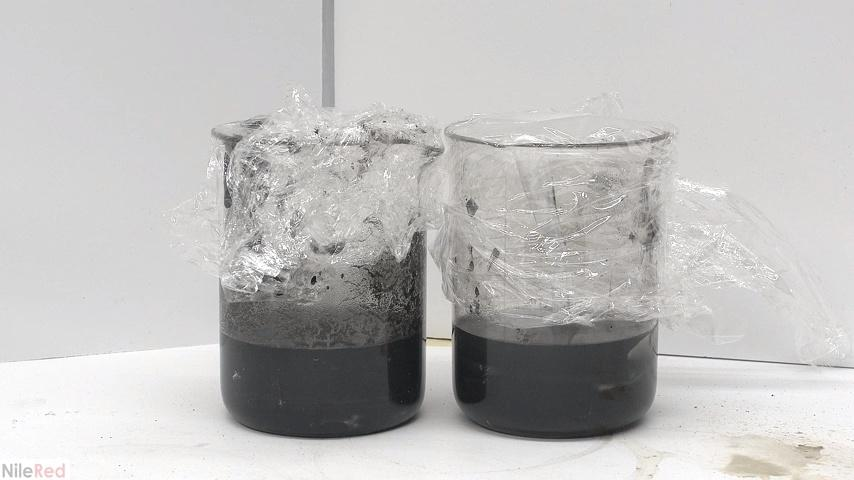Beaker: (198, 108, 434, 436), (443, 103, 662, 430)
